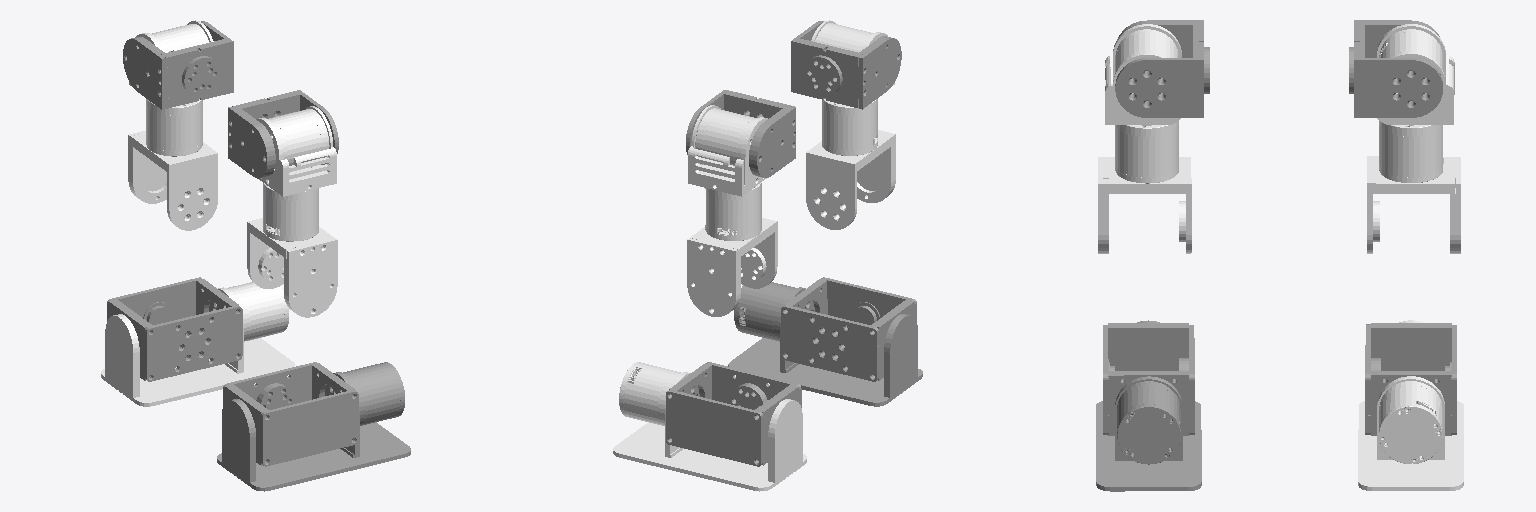
robot.urdf — yuerobot:
<?xml version="1.0" encoding="utf-8"?>
<!-- This URDF was automatically created by SolidWorks to URDF Exporter! Originally created by Stephen Brawner (brawner@gmail.com) 
     Commit Version: 1.6.0-4-g7f85cfe  Build Version: 1.6.7995.38578
     For more information, please see http://wiki.ros.org/sw_urdf_exporter -->
<robot
  name="yuerobot">
  <link
    name="base_link">
    <inertial>
      <origin
        xyz="-0.0068970 0.0003403 0.0133933"
        rpy="0 0 0" />
      <mass
        value="1.9673611" />
      <inertia
        ixx="0.0066223"
        ixy="-0.0000049"
        ixz="-0.0009004"
        iyy="0.0058412"
        iyz="-0.0000202"
        izz="0.0044190" />
    </inertial>
    <visual>
      <origin
        xyz="0 0 0"
        rpy="0 0 0" />
      <geometry>
        <mesh
          filename="../meshes/base_link.STL" />
      </geometry>
      <material
        name="">
        <color
          rgba="0.698039215686274 0.698039215686274 0.698039215686274 1" />
      </material>
    </visual>
    <collision>
      <origin
        xyz="0 0 0"
        rpy="0 0 0" />
      <geometry>
        <mesh
          filename="../meshes/base_link.STL" />
      </geometry>
    </collision>
  </link>
  <link
    name="r_leg_pitch_link">
    <inertial>
      <origin
        xyz="-0.00339264613016187 -0.0226928900752335 -8.6813108646222E-08"
        rpy="0 0 0" />
      <mass
        value="0.061" />
      <inertia
        ixx="0.0000209"
        ixy="-0.0000006"
        ixz="0"
        iyy="0.0000323"
        iyz="0"
        izz="0.0000399" />
    </inertial>
    <visual>
      <origin
        xyz="0 0 0"
        rpy="0 0 0" />
      <geometry>
        <mesh
          filename="../meshes/r_leg_pitch_link.STL" />
      </geometry>
      <material
        name="">
        <color
          rgba="0.698039215686274 0.698039215686274 0.698039215686274 1" />
      </material>
    </visual>
    <collision>
      <origin
        xyz="0 0 0"
        rpy="0 0 0" />
      <geometry>
        <mesh
          filename="../meshes/r_leg_pitch_link.STL" />
      </geometry>
    </collision>
  </link>
  <joint
    name="r_leg_pitch_joint"
    type="revolute">
    <origin
      xyz="-0.0028263857545672 -0.0501220783178584 -0.0299999999999996"
      rpy="0 0 0" />
    <parent
      link="base_link" />
    <child
      link="r_leg_pitch_link" />
    <axis
      xyz="0 -1 0" />
    <limit
      lower="-1.57"
      upper="1.57"
      effort="5"
      velocity="10" />
  </joint>
  <link
    name="r_leg_roll_link">
    <inertial>
      <origin
        xyz="-0.0195398 -0.0001656 -0.0017215"
        rpy="0 0 0" />
      <mass
        value="0.290" />
      <inertia
        ixx="0.0000333"
        ixy="-0.0000003"
        ixz="-0.0000018"
        iyy="0.0000378"
        iyz="-0.0000019"
        izz="0.0000314" />
    </inertial>
    <visual>
      <origin
        xyz="0 0 0"
        rpy="0 0 0" />
      <geometry>
        <mesh
          filename="../meshes/r_leg_roll_link.STL" />
      </geometry>
      <material
        name="">
        <color
          rgba="1 1 1 1" />
      </material>
    </visual>
    <collision>
      <origin
        xyz="0 0 0"
        rpy="0 0 0" />
      <geometry>
        <mesh
          filename="../meshes/r_leg_roll_link.STL" />
      </geometry>
    </collision>
  </link>
  <joint
    name="r_leg_roll_joint"
    type="revolute">
    <origin
      xyz="0.0229998785528012 -0.0450000000000002 0"
      rpy="0 0 0" />
    <parent
      link="r_leg_pitch_link" />
    <child
      link="r_leg_roll_link" />
    <axis
      xyz="1 0 0" />
    <limit
      lower="-1.57"
      upper="0.5"
      effort="5"
      velocity="10" />
  </joint>
  <link
    name="r_leg_yaw_link">
    <inertial>
      <origin
        xyz="-0.0001134  -0.0005302  -0.0249290"
        rpy="0 0 0" />
      <mass
        value="0.294" />
      <inertia
        ixx="0.0001181"
        ixy=" 0.0000001"
        ixz="0.0000002"
        iyy="0.0000987"
        iyz="-0.0000057"
        izz="0.0000422" />
    </inertial>
    <visual>
      <origin
        xyz="0 0 0"
        rpy="0 0 0" />
      <geometry>
        <mesh
          filename="../meshes/r_leg_yaw_link.STL" />
      </geometry>
      <material
        name="">
        <color
          rgba="1 1 1 1" />
      </material>
    </visual>
    <collision>
      <origin
        xyz="0 0 0"
        rpy="0 0 0" />
      <geometry>
        <mesh
          filename="../meshes/r_leg_yaw_link.STL" />
      </geometry>
    </collision>
  </link>
  <joint
    name="r_leg_yaw_joint"
    type="revolute">
    <origin
      xyz="-0.0229998785528012 2.01503714121753E-05 -0.0351999999999991"
      rpy="0 0 0" />
    <parent
      link="r_leg_roll_link" />
    <child
      link="r_leg_yaw_link" />
    <axis
      xyz="0 0 1" />
    <limit
      lower="-1.57"
      upper="1.57"
      effort="5"
      velocity="10" />
  </joint>
  <link
    name="r_knee_pitch_link">
    <inertial>
      <origin
        xyz="7.46751746018084E-05 -0.0202992252629291 -0.0618199592587424"
        rpy="0 0 0" />
      <mass
        value="0.592" />
      <inertia
        ixx="0.0020935"
        ixy="0.0000001"
        ixz="0.0000019"
        iyy="0.0020812"
        iyz="0.0000153"
        izz="0.0000704" />
    </inertial>
    <visual>
      <origin
        xyz="0 0 0"
        rpy="0 0 0" />
      <geometry>
        <mesh
          filename="../meshes/r_knee_pitch_link.STL" />
      </geometry>
      <material
        name="">
        <color
          rgba="1 1 1 1" />
      </material>
    </visual>
    <collision>
      <origin
        xyz="0 0 0"
        rpy="0 0 0" />
      <geometry>
        <mesh
          filename="../meshes/r_knee_pitch_link.STL" />
      </geometry>
    </collision>
  </link>
  <joint
    name="r_knee_pitch_joint"
    type="revolute">
    <origin
      xyz="-6.96727054607174E-05 0.0222498909145493 -0.0849999999999999"
      rpy="0 0 0" />
    <parent
      link="r_leg_yaw_link" />
    <child
      link="r_knee_pitch_link" />
    <axis
      xyz="-0.00313135754520348 0.999995097287944 0" />
    <limit
      lower="-1.57"
      upper="1.57"
      effort="5"
      velocity="10" />
  </joint>
  <link
    name="r_ankle_pitch_link">
    <inertial>
      <origin
        xyz="0.0012396147727253 -0.021305720233163 -1.94195423458554E-06"
        rpy="0 0 0" />
      <mass
        value="0.076" />
      <inertia
        ixx="0.0000319"
        ixy="0"
        ixz="0"
        iyy="0.0000547"
        iyz="0"
        izz="0.0000716" />
    </inertial>
    <visual>
      <origin
        xyz="0 0 0"
        rpy="0 0 0" />
      <geometry>
        <mesh
          filename="../meshes/r_ankle_pitch_link.STL" />
      </geometry>
      <material
        name="">
        <color
          rgba="0.698039215686274 0.698039215686274 0.698039215686274 1" />
      </material>
    </visual>
    <collision>
      <origin
        xyz="0 0 0"
        rpy="0 0 0" />
      <geometry>
        <mesh
          filename="../meshes/r_ankle_pitch_link.STL" />
      </geometry>
    </collision>
  </link>
  <joint
    name="r_ankle_pitch_joint"
    type="revolute">
    <origin
      xyz="-2.0362609089046E-05 0.000761986088441524 -0.12549"
      rpy="0 0 0" />
    <parent
      link="r_knee_pitch_link" />
    <child
      link="r_ankle_pitch_link" />
    <axis
      xyz="-0.00313135754519868 0.999995097287944 0" />
    <limit
      lower="-0.5"
      upper="0.5"
      effort="5"
      velocity="10" />
  </joint>
  <link
    name="r_ankle_roll_link">
    <inertial>
      <origin
        xyz="0.0090800 0.0001416 -0.0055498"
        rpy="0 0 0" />
      <mass
        value="0.306" />
      <inertia
        ixx="0.0000875"
        ixy="-0.0000012"
        ixz="-0.0000643"
        iyy="0.0003268"
        iyz="-0.0000004"
        izz="0.0002877" />
    </inertial>
    <visual>
      <origin
        xyz="0 0 0"
        rpy="0 0 0" />
      <geometry>
        <mesh
          filename="../meshes/r_ankle_roll_link.STL" />
      </geometry>
      <material
        name="">
        <color
          rgba="0.698039215686274 0.698039215686274 0.698039215686274 1" />
      </material>
    </visual>
    <collision>
      <origin
        xyz="0 0 0"
        rpy="0 0 0" />
      <geometry>
        <mesh
          filename="../meshes/r_ankle_roll_link.STL" />
      </geometry>
    </collision>
  </link>
  <joint
    name="r_ankle_roll_joint"
    type="revolute">
    <origin
      xyz="0.0512186390922727 -0.0218397232018976 0"
      rpy="0 0 0" />
    <parent
      link="r_ankle_pitch_link" />
    <child
      link="r_ankle_roll_link" />
    <axis
      xyz="-0.999995097287944 -0.00313135754519815 0" />
    <limit
      lower="-0.5"
      upper="0.5"
      effort="5"
      velocity="10" />
  </joint>
  <link
    name="l_leg_pitch_link">
    <inertial>
      <origin
        xyz="-0.0034436 0.0227179 0.0000000"
        rpy="0 0 0" />
      <mass
        value="0.061" />
      <inertia
        ixx="0.0000209"
        ixy="0.0000006"
        ixz="0.0000000"
        iyy=" 0.0000323"
        iyz="0.0000000"
        izz="0.0000399" />
    </inertial>
    <visual>
      <origin
        xyz="0 0 0"
        rpy="0 0 0" />
      <geometry>
        <mesh
          filename="../meshes/l_leg_pitch_link.STL" />
      </geometry>
      <material
        name="">
        <color
          rgba="0.698039215686274 0.698039215686274 0.698039215686274 1" />
      </material>
    </visual>
    <collision>
      <origin
        xyz="0 0 0"
        rpy="0 0 0" />
      <geometry>
        <mesh
          filename="../meshes/l_leg_pitch_link.STL" />
      </geometry>
    </collision>
  </link>
  <joint
    name="l_leg_pitch_joint"
    type="revolute">
    <origin
      xyz="-0.00282638575456723 0.0498779216821416 -0.0300000000000008"
      rpy="0 0 0" />
    <parent
      link="base_link" />
    <child
      link="l_leg_pitch_link" />
    <axis
      xyz="0 1 0" />
    <limit
      lower="-1.57"
      upper="1.57"
      effort="5"
      velocity="10" />
  </joint>
  <link
    name="l_leg_roll_link">
    <inertial>
      <origin
        xyz="-0.0195367 0.0001689 -0.0016570"
        rpy="0 0 0" />
      <mass
        value="0.290" />
      <inertia
        ixx="0.0000339"
        ixy="0.0000004"
        ixz="-0.0000018"
        iyy="0.0000382"
        iyz="0.0000019"
        izz="0.0000319" />
    </inertial>
    <visual>
      <origin
        xyz="0 0 0"
        rpy="0 0 0" />
      <geometry>
        <mesh
          filename="../meshes/l_leg_roll_link.STL" />
      </geometry>
      <material
        name="">
        <color
          rgba="1 1 1 1" />
      </material>
    </visual>
    <collision>
      <origin
        xyz="0 0 0"
        rpy="0 0 0" />
      <geometry>
        <mesh
          filename="../meshes/l_leg_roll_link.STL" />
      </geometry>
    </collision>
  </link>
  <joint
    name="l_leg_roll_joint"
    type="revolute">
    <origin
      xyz="0.0227500000000002 0.045 0"
      rpy="0 0 0" />
    <parent
      link="l_leg_pitch_link" />
    <child
      link="l_leg_roll_link" />
    <axis
      xyz="1 0 0" />
    <limit
      lower="-0.5"
      upper="1.57"
      effort="5"
      velocity="10" />
  </joint>
  <link
    name="l_leg_yaw_link">
    <inertial>
      <origin
        xyz="-0.0000347 0.0006084  -0.0249290"
        rpy="0 0 0" />
      <mass
        value="0.294" />
      <inertia
        ixx="0.0001181"
        ixy="-0.0000001"
        ixz="0.0000001"
        iyy="0.0000987"
        iyz="0.0000056"
        izz="0.0000422" />
    </inertial>
    <visual>
      <origin
        xyz="0 0 0"
        rpy="0 0 0" />
      <geometry>
        <mesh
          filename="../meshes/l_leg_yaw_link.STL" />
      </geometry>
      <material
        name="">
        <color
          rgba="1 1 1 1" />
      </material>
    </visual>
    <collision>
      <origin
        xyz="0 0 0"
        rpy="0 0 0" />
      <geometry>
        <mesh
          filename="../meshes/l_leg_yaw_link.STL" />
      </geometry>
    </collision>
  </link>
  <joint
    name="l_leg_yaw_joint"
    type="revolute">
    <origin
      xyz="-0.0229998785528012 2.01503714121753E-05 -0.0352"
      rpy="0 0 0" />
    <parent
      link="l_leg_roll_link" />
    <child
      link="l_leg_yaw_link" />
    <axis
      xyz="0 0 1" />
    <limit
      lower="-1.57"
      upper="1.57"
      effort="5"
      velocity="10" />
  </joint>
  <link
    name="l_knee_pitch_link">
    <inertial>
      <origin
        xyz="0.0000914 0.0195443 -0.0615738"
        rpy="0 0 0" />
      <mass
        value="0.592" />
      <inertia
        ixx="0.0021006"
        ixy=" 0.0000000"
        ixz=" -0.0000003"
        iyy=" 0.0020885"
        iyz="0.0000011"
        izz=" 0.0000702" />
    </inertial>
    <visual>
      <origin
        xyz="0 0 0"
        rpy="0 0 0" />
      <geometry>
        <mesh
          filename="../meshes/l_knee_pitch_link.STL" />
      </geometry>
      <material
        name="">
        <color
          rgba="1 1 1 1" />
      </material>
    </visual>
    <collision>
      <origin
        xyz="0 0 0"
        rpy="0 0 0" />
      <geometry>
        <mesh
          filename="../meshes/l_knee_pitch_link.STL" />
      </geometry>
    </collision>
  </link>
  <joint
    name="l_knee_pitch_joint"
    type="revolute">
    <origin
      xyz="-6.96727054620358E-05 -0.0222498909147636 -0.085"
      rpy="0 0 0" />
    <parent
      link="l_leg_yaw_link" />
    <child
      link="l_knee_pitch_link" />
    <axis
      xyz="-0.0031313575452107 -0.999995097287944 0" />
    <limit
      lower="-1.57"
      upper="1.57"
      effort="5"
      velocity="10" />
  </joint>
  <link
    name="l_ankle_pitch_link">
    <inertial>
      <origin
        xyz="0.0012396 0.0213057 0.0000019"
        rpy="0 0 0" />
      <mass
        value=" 0.076" />
      <inertia
        ixx=" 0.0000319"
        ixy="0.0000000"
        ixz="0.0000000"
        iyy=" 0.0000547"
        iyz="0.0000000"
        izz="0.0000716" />
    </inertial>
    <visual>
      <origin
        xyz="0 0 0"
        rpy="0 0 0" />
      <geometry>
        <mesh
          filename="../meshes/l_ankle_pitch_link.STL" />
      </geometry>
      <material
        name="">
        <color
          rgba="0.698039215686274 0.698039215686274 0.698039215686274 1" />
      </material>
    </visual>
    <collision>
      <origin
        xyz="0 0 0"
        rpy="0 0 0" />
      <geometry>
        <mesh
          filename="../meshes/l_ankle_pitch_link.STL" />
      </geometry>
    </collision>
  </link>
  <joint
    name="l_ankle_pitch_joint"
    type="revolute">
    <origin
      xyz="2.08953913148346E-05 0.00023788962011051 -0.125490000000002"
      rpy="0 0 0" />
    <parent
      link="l_knee_pitch_link" />
    <child
      link="l_ankle_pitch_link" />
    <axis
      xyz="-0.00313135754521505 -0.999995097287944 0" />
    <limit
      lower="-0.5"
      upper="0.5"
      effort="5"
      velocity="10" />
  </joint>
  <link
    name="l_ankle_roll_link">
    <inertial>
      <origin
        xyz=" 0.0091065 0.0000290 -0.0054485"
        rpy="0 0 0" />
      <mass
        value="0.306" />
      <inertia
        ixx="0.0000879"
        ixy="0.0000005"
        ixz="-0.0000644"
        iyy="0.0003265"
        iyz="0.0000001"
        izz=" 0.0002870" />
    </inertial>
    <visual>
      <origin
        xyz="0 0 0"
        rpy="0 0 0" />
      <geometry>
        <mesh
          filename="../meshes/l_ankle_roll_link.STL" />
      </geometry>
      <material
        name="">
        <color
          rgba="1 1 1 1" />
      </material>
    </visual>
    <collision>
      <origin
        xyz="0 0 0"
        rpy="0 0 0" />
      <geometry>
        <mesh
          filename="../meshes/l_ankle_roll_link.STL" />
      </geometry>
    </collision>
  </link>
  <joint
    name="l_ankle_roll_joint"
    type="revolute">
    <origin
      xyz="0.0510686398276793 0.021840192905533 0"
      rpy="0 0 0" />
    <parent
      link="l_ankle_pitch_link" />
    <child
      link="l_ankle_roll_link" />
    <axis
      xyz="-0.999995097287944 0.00313135754521171 0" />
    <limit
      lower="-0.5"
      upper="0.5"
      effort="5"
      velocity="10" />
  </joint>
  <!-- <link
    name="imu">
    <inertial>
      <origin
        xyz="0.00795296737017336 0.000147138881748332 0.00348562762815074"
        rpy="0 0 0" />
      <mass
        value="0.0178036519110508" />
      <inertia
        ixx="4.12207468980284E-05"
        ixy="-3.20049704748981E-06"
        ixz="-1.34781256326514E-07"
        iyy="9.45694994522103E-06"
        iyz="1.0133419230383E-05"
        izz="3.96210362000018E-05" />
    </inertial>
    <visual>
      <origin
        xyz="0 0 0"
        rpy="0 0 0" />
      <geometry>
        <mesh
          filename="../meshes/imu.STL" />
      </geometry>
      <material
        name="">
        <color
          rgba="1 1 1 1" />
      </material>
    </visual>
    <collision>
      <origin
        xyz="0 0 0"
        rpy="0 0 0" />
      <geometry>
        <mesh
          filename="../meshes/imu.STL" />
      </geometry>
    </collision>
  </link>
  <joint
    name="imu"
    type="fixed">
    <origin
      xyz="-0.0485763857545669 -0.000122078317860763 0.0595000000000006"
      rpy="0 0 0" />
    <parent
      link="base_link" />
    <child
      link="imu" />
    <axis
      xyz="0 0 0" />
  </joint> -->
</robot>

--- What the picture shows (computed from the rendered views, not written in the file) ---
3 views of the same robot in one strip: view 1: azimuth 30°, elevation 25°; view 2: azimuth 150°, elevation 25°; view 3: azimuth 270°, elevation 25° (orthographic).
Model yuerobot with 13 links and 12 joints (12 revolute), rooted at base_link, posed every joint at zero.
Visible links, largest first — view 1: r_ankle_roll_link, l_ankle_pitch_link, r_ankle_pitch_link, l_ankle_roll_link, r_leg_yaw_link, l_leg_yaw_link, l_leg_pitch_link, r_leg_roll_link, r_leg_pitch_link, l_leg_roll_link; view 2: l_ankle_roll_link, r_ankle_pitch_link, l_ankle_pitch_link, r_ankle_roll_link, l_leg_yaw_link, r_leg_yaw_link, r_leg_pitch_link, l_leg_roll_link, l_leg_pitch_link, r_leg_roll_link; view 3: l_ankle_roll_link, r_ankle_roll_link, l_leg_yaw_link, r_leg_yaw_link, r_ankle_pitch_link, l_ankle_pitch_link, l_leg_pitch_link, r_leg_pitch_link, l_leg_roll_link, r_leg_roll_link.
Boxes of the visible links, box(x1,y1,x2,y2) form: r_ankle_roll_link: box(217, 362, 410, 491); l_ankle_pitch_link: box(107, 277, 242, 381); r_ankle_pitch_link: box(223, 362, 358, 466); l_ankle_roll_link: box(101, 282, 294, 406); r_leg_yaw_link: box(247, 183, 337, 317); l_leg_yaw_link: box(128, 99, 217, 230); l_leg_pitch_link: box(123, 21, 233, 109); r_leg_roll_link: box(256, 106, 336, 196); r_leg_pitch_link: box(228, 90, 338, 178); l_leg_roll_link: box(129, 20, 213, 85); l_ankle_roll_link: box(613, 362, 806, 491); r_ankle_pitch_link: box(781, 277, 916, 381); l_ankle_pitch_link: box(666, 362, 801, 466); r_ankle_roll_link: box(728, 282, 922, 406); l_leg_yaw_link: box(687, 182, 777, 316); r_leg_yaw_link: box(806, 99, 895, 229); r_leg_pitch_link: box(791, 21, 901, 109); l_leg_roll_link: box(688, 105, 767, 196); l_leg_pitch_link: box(686, 90, 795, 177); r_leg_roll_link: box(811, 20, 894, 84); l_ankle_roll_link: box(1358, 320, 1463, 490); r_ankle_roll_link: box(1096, 320, 1201, 491); l_leg_yaw_link: box(1367, 121, 1460, 253); r_leg_yaw_link: box(1098, 121, 1191, 253); r_ankle_pitch_link: box(1103, 323, 1194, 435); l_ankle_pitch_link: box(1365, 323, 1456, 435); l_leg_pitch_link: box(1349, 20, 1442, 117); r_leg_pitch_link: box(1115, 20, 1209, 117); l_leg_roll_link: box(1377, 24, 1454, 124); r_leg_roll_link: box(1105, 24, 1181, 124).
Size in the robot's own frame: 0.1485 by 0.2652 by 0.3145 metres.
Meshes: 13 distinct files referenced, 10 mesh visuals loaded (10 binary STL); not drawn: 3 (reference not matched to a file when rendering).
